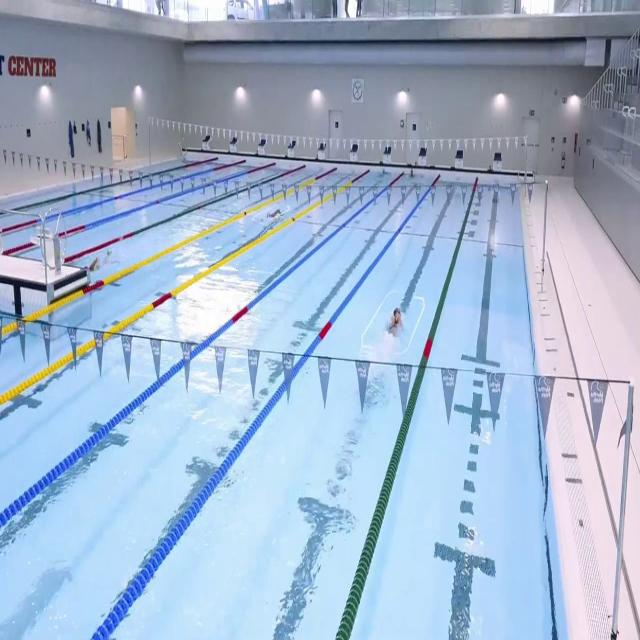Swimming: (83, 254, 120, 272), (387, 307, 404, 340), (266, 208, 282, 220)
